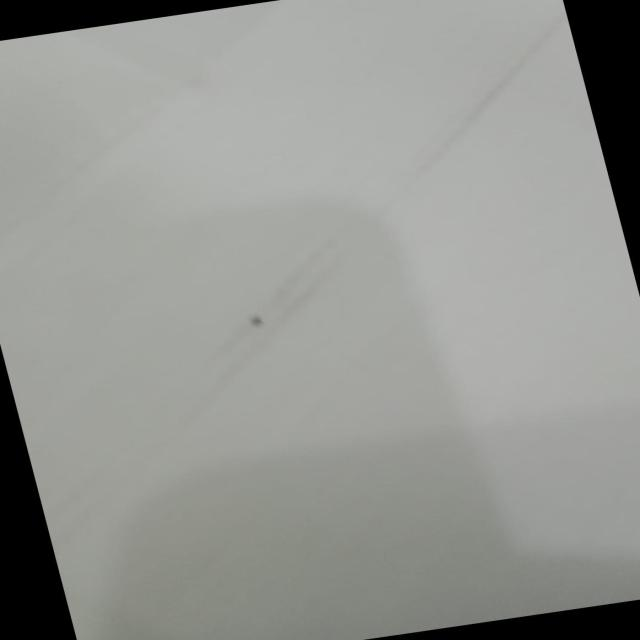stain: (405, 16, 600, 171), (219, 296, 299, 350)
